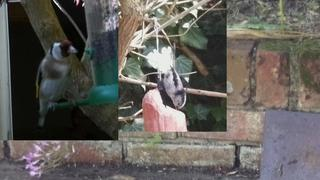goldfinch: (35, 40, 78, 127)
long tailed tit: (164, 40, 187, 110)
